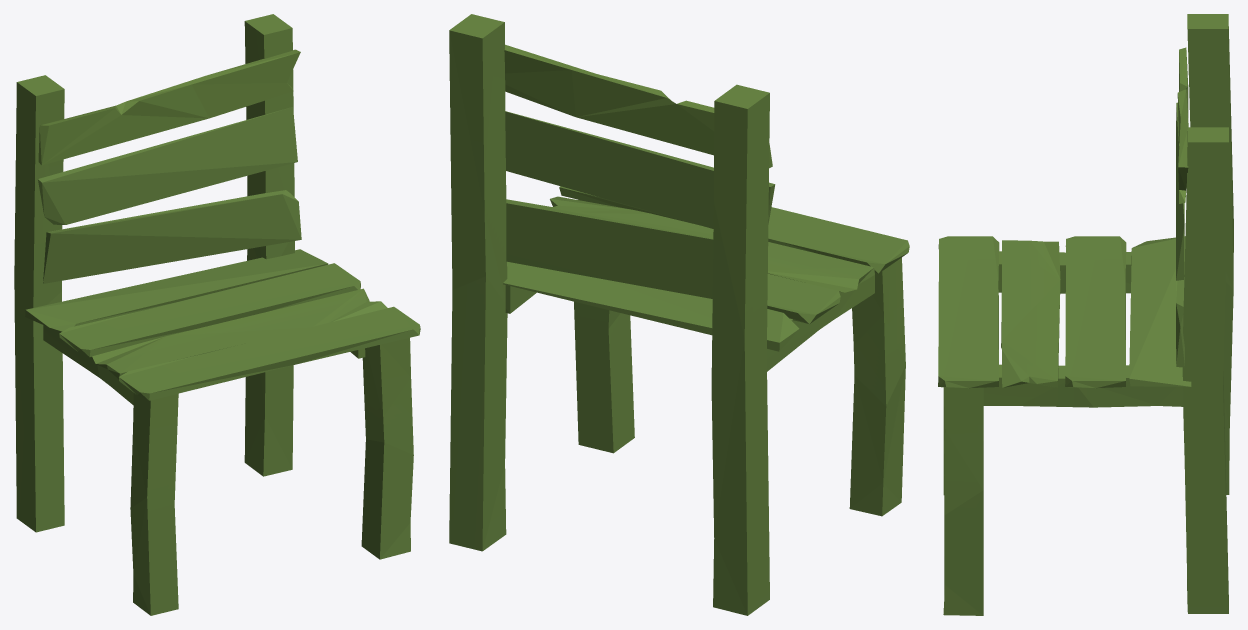
Rendered from Chair_01.fbx.
3 views of the same model, side by side, from view 1: azimuth 30°, elevation 25°; view 2: azimuth 150°, elevation 25°; view 3: azimuth 270°, elevation 25° (orthographic). The views are drawn at different scales.
Visible parts, largest first — view 1: Chair_01; view 2: Chair_01; view 3: Chair_01.
Part boxes in pixels (x1=…): Chair_01: x1=14, y1=14, x2=420, y2=615; Chair_01: x1=449, y1=14, x2=909, y2=615; Chair_01: x1=938, y1=14, x2=1233, y2=615.
Bounding box in the file's own units: 0.5375 × 0.8071 × 0.4586.
